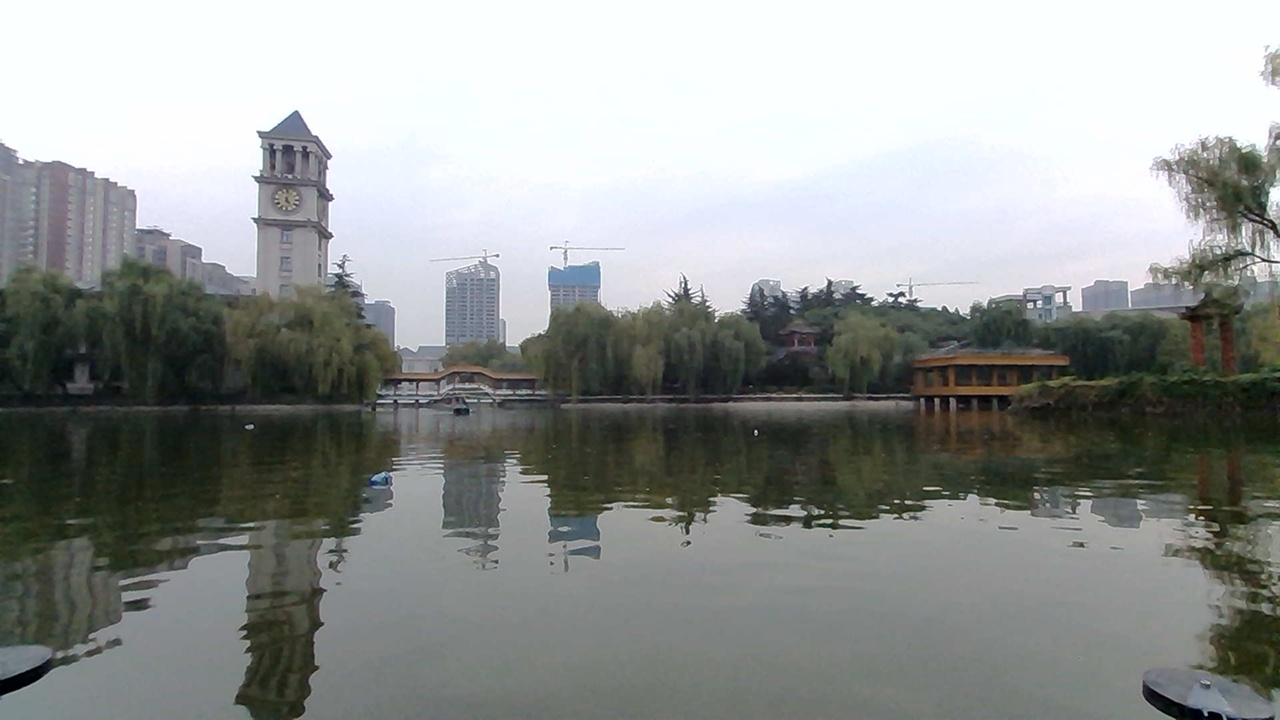bottle: (362, 469, 401, 493), (752, 419, 776, 443), (241, 413, 264, 431)
